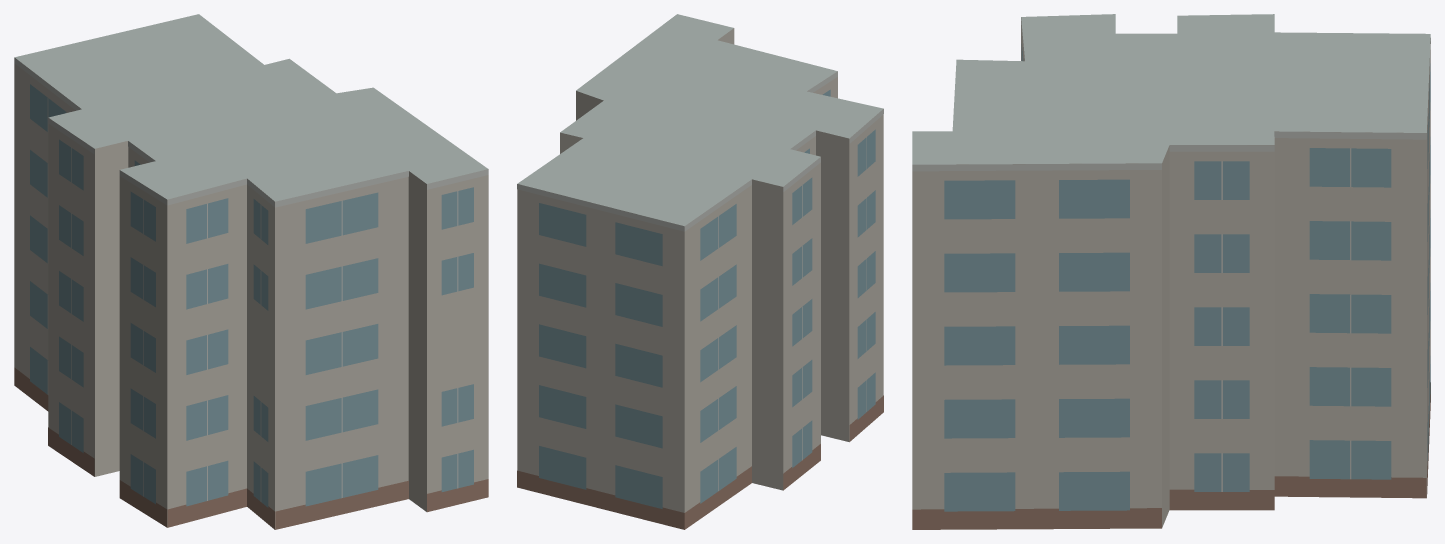
The model's file is survey-upis-32899564.glb.
The picture shows the model from 3 angles, left to right: view 1: azimuth 30°, elevation 25°; view 2: azimuth 150°, elevation 25°; view 3: azimuth 270°, elevation 25°; orthographic projection. The views are drawn at different scales.
Parts seen in each view (by area): view 1: survey-upis-32899564.tmp; view 2: survey-upis-32899564.tmp; view 3: survey-upis-32899564.tmp.
Part boxes in pixels (<box>): survey-upis-32899564.tmp: <box>14,14,488,529</box>; survey-upis-32899564.tmp: <box>517,14,883,529</box>; survey-upis-32899564.tmp: <box>912,14,1430,529</box>.
Size of the model in its own units: 11.96 by 13.5 by 17.39.
